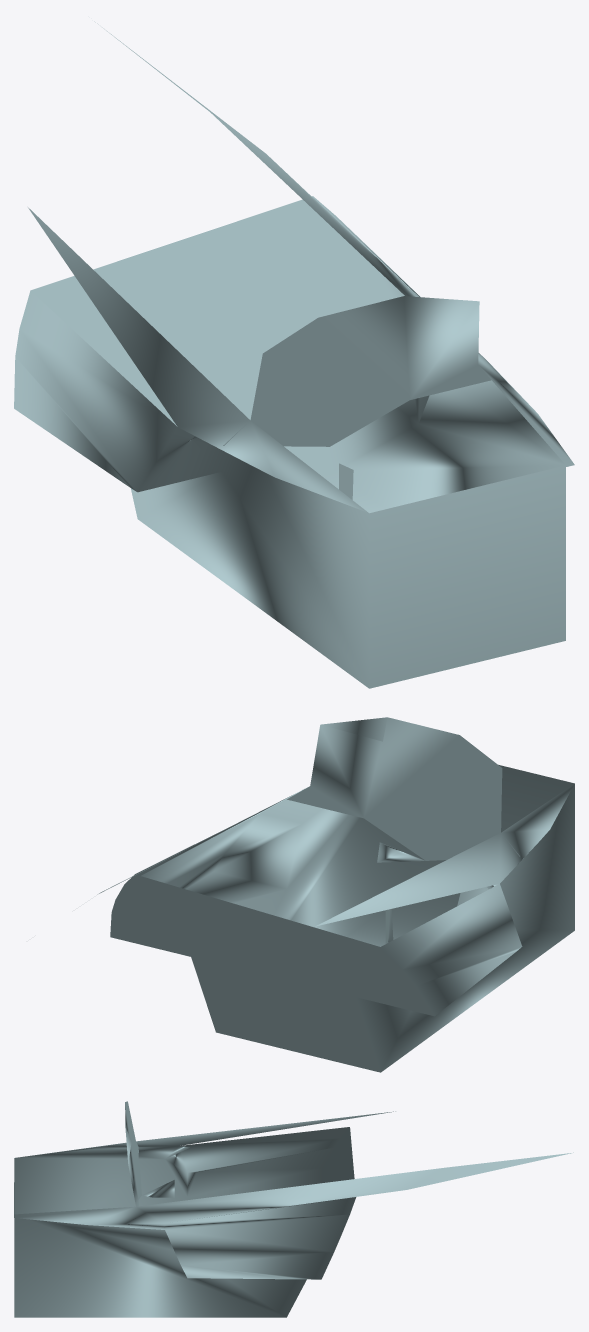
The model's file is m_jet_0f54fb7b.glb.
3 views of the same model, one above another, from view 1: azimuth 30°, elevation 25°; view 2: azimuth 150°, elevation 25°; view 3: azimuth 270°, elevation 25° (orthographic). The views are drawn at different scales.
Visible parts, largest first — view 1: mesh; view 2: mesh; view 3: mesh.
Part boxes in pixels (x1,y1,x2,y2): mesh: (14, 21, 574, 688); mesh: (97, 717, 574, 1072); mesh: (14, 1101, 573, 1317).
Bounding box in the file's own units: 935 × 674 × 1995.
